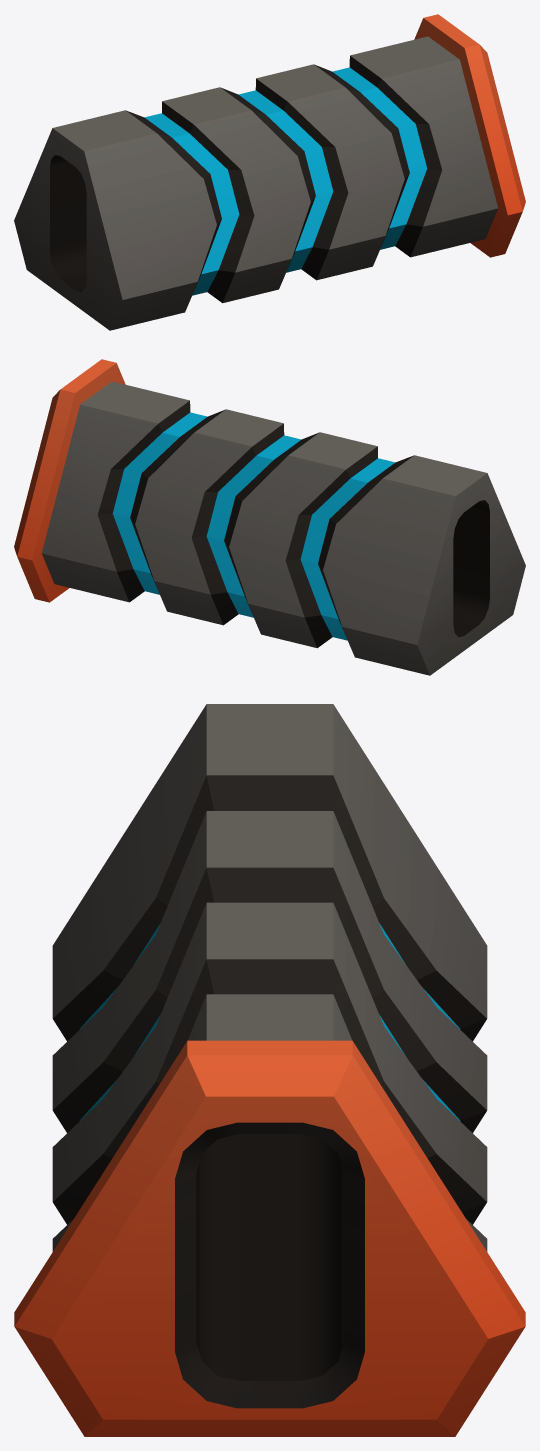
Rendered from Muzzle_Caliber3_03.fbx.
The picture shows the model from 3 angles, top to bottom: view 1: azimuth 30°, elevation 25°; view 2: azimuth 150°, elevation 25°; view 3: azimuth 270°, elevation 25°; orthographic projection. The views are drawn at different scales.
Visible parts, largest first — view 1: Muzzle_Caliber3_03; view 2: Muzzle_Caliber3_03; view 3: Muzzle_Caliber3_03.
Boxes of the visible parts, x1,y1,x2,y2 form: Muzzle_Caliber3_03: (14, 14, 525, 330); Muzzle_Caliber3_03: (14, 359, 525, 675); Muzzle_Caliber3_03: (14, 704, 525, 1436).
Size of the model in its own units: 25.36 by 11.47 by 13.93.
